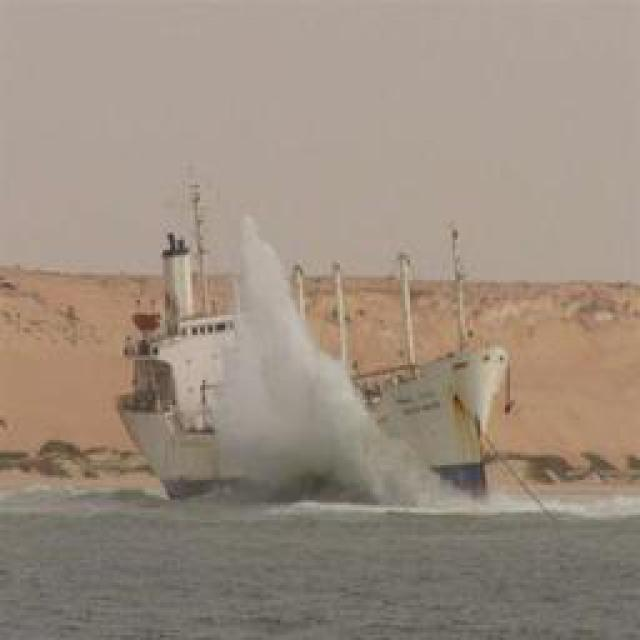Ship: (96, 152, 525, 517)
